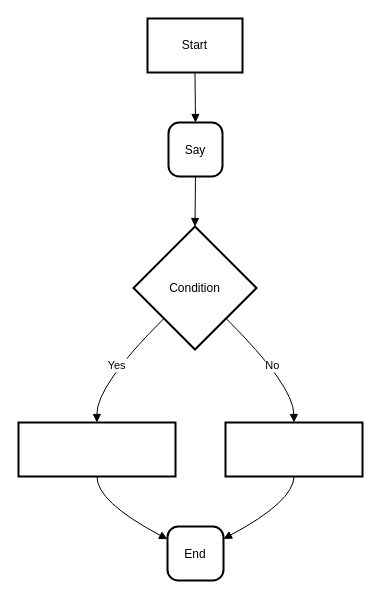
Image size: 380x598. Some labels were removed from this diagram. Each missing label, with the box of its shape:
Do nothing: (224, 421, 363, 477)
Do something: (17, 421, 176, 477)
